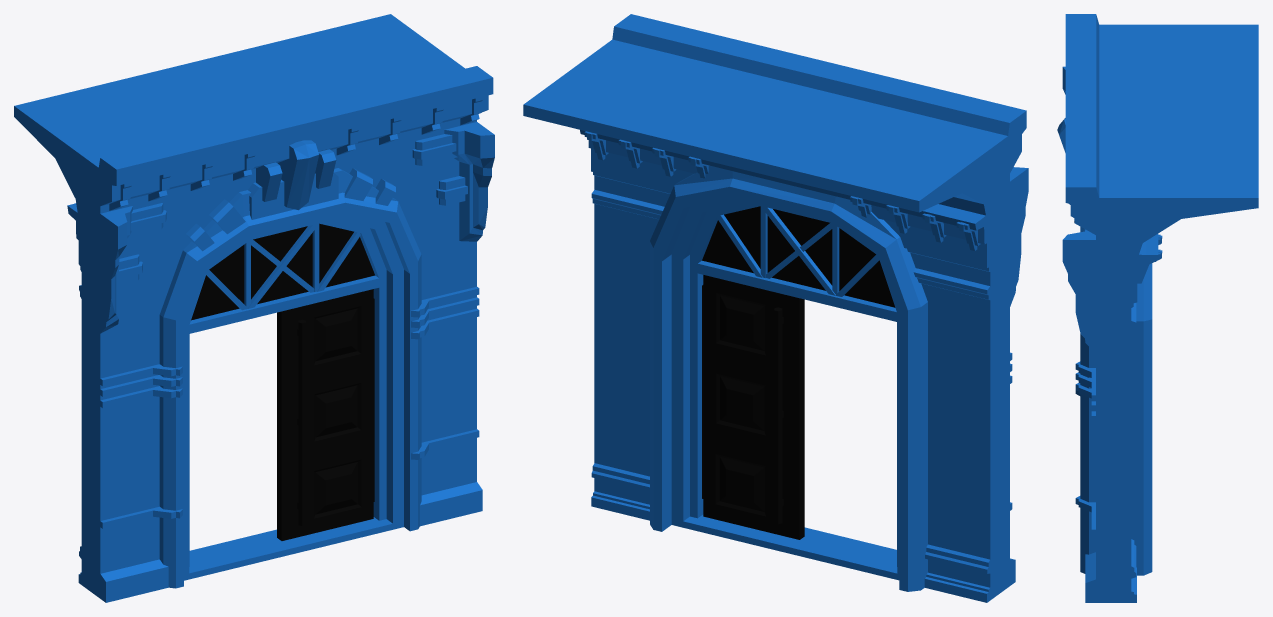
The model's file is SM_exterior_wall5.fbx.
The picture shows the model from 3 angles, left to right: view 1: azimuth 30°, elevation 25°; view 2: azimuth 150°, elevation 25°; view 3: azimuth 270°, elevation 25°; orthographic projection. The views are drawn at different scales.
Visible parts, largest first — view 1: exterior_wall5, exterior_wal5; view 2: exterior_wall5, exterior_wal5; view 3: exterior_wall5.
Part boxes in pixels (box(x1,y1,x2,y2)): exterior_wall5: box(14, 14, 494, 602); exterior_wal5: box(277, 289, 374, 540); exterior_wall5: box(523, 14, 1028, 602); exterior_wal5: box(702, 275, 804, 539); exterior_wall5: box(1057, 14, 1258, 602).
Size of the model in its own units: 400 by 447 by 197.
